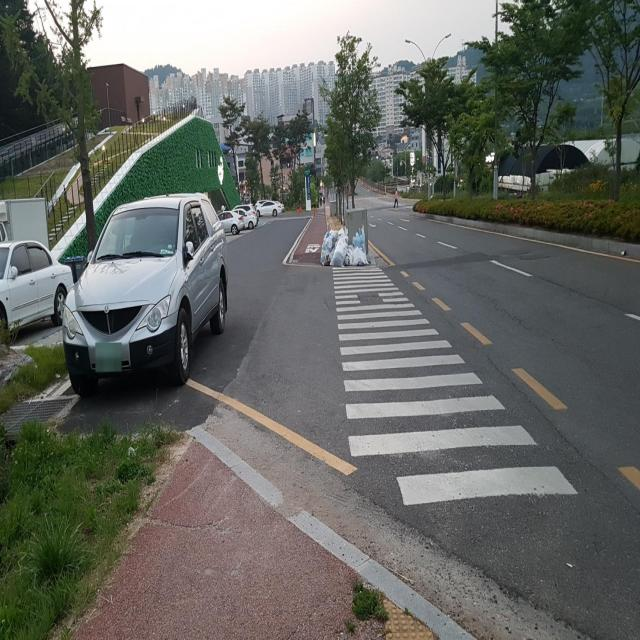횡단보도: (330, 266, 580, 509)
